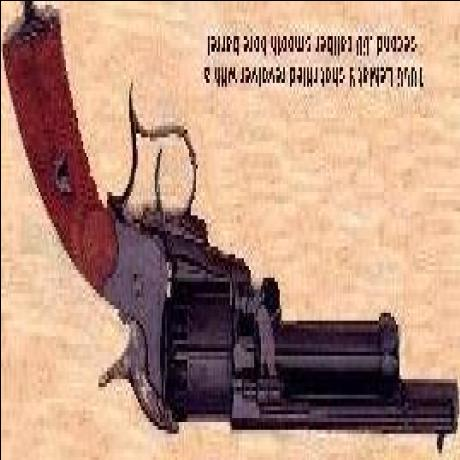weapon: (1, 8, 460, 460)
